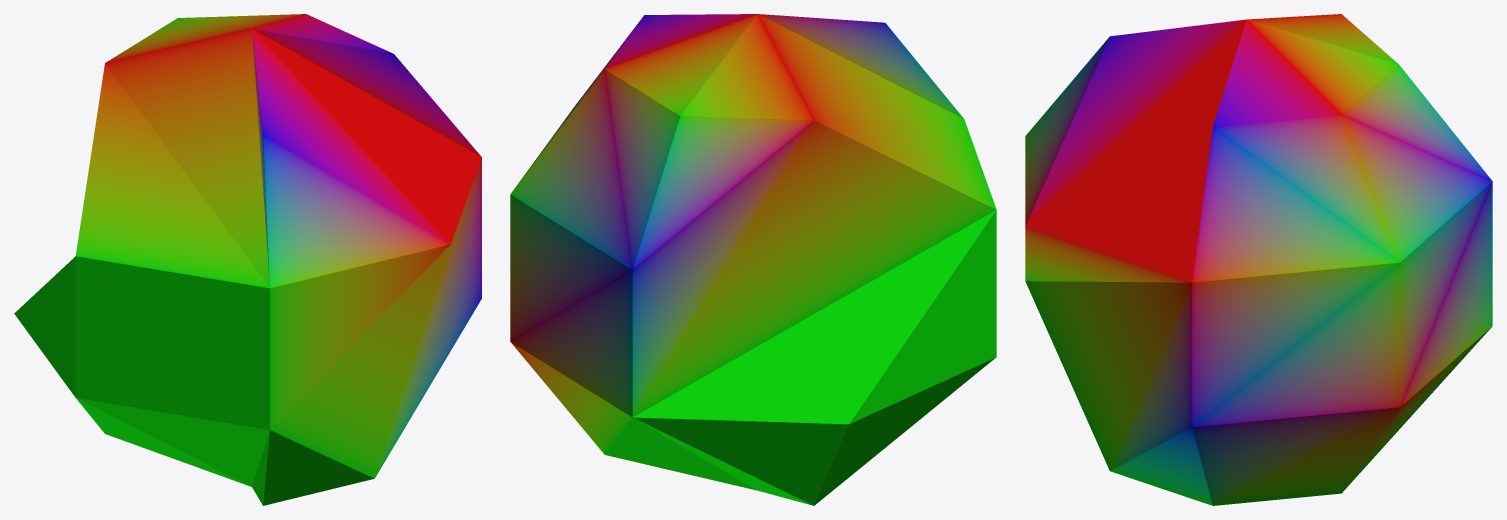
The model's file is all_14.obj.
3 views of the same model, side by side, from view 1: azimuth 30°, elevation 25°; view 2: azimuth 150°, elevation 25°; view 3: azimuth 270°, elevation 25° (orthographic). The views are drawn at different scales.
Size of the model in its own units: 1.85 by 2 by 1.81.
